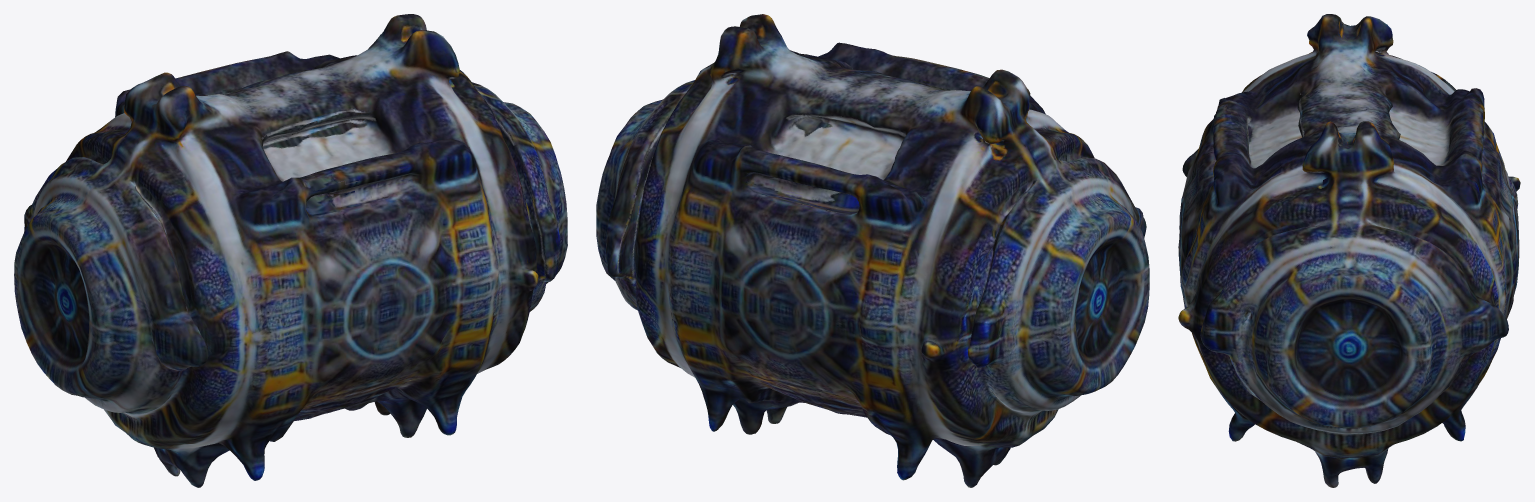
Rendered from cdf0b39b6d7b_GENERATOR_SPCAE_GAL.fbx.
3 views of the same model, side by side, from view 1: azimuth 30°, elevation 25°; view 2: azimuth 150°, elevation 25°; view 3: azimuth 270°, elevation 25° (orthographic). The views are drawn at different scales.
Parts seen in each view (by area): view 1: mesh; view 2: mesh; view 3: mesh.
Part boxes in pixels (box(x1,y1,x2,y2)): mesh: box(14, 14, 567, 487); mesh: box(596, 14, 1149, 487); mesh: box(1178, 14, 1520, 487).
Bounding box in the file's own units: 99.93 × 82.18 × 68.75.
